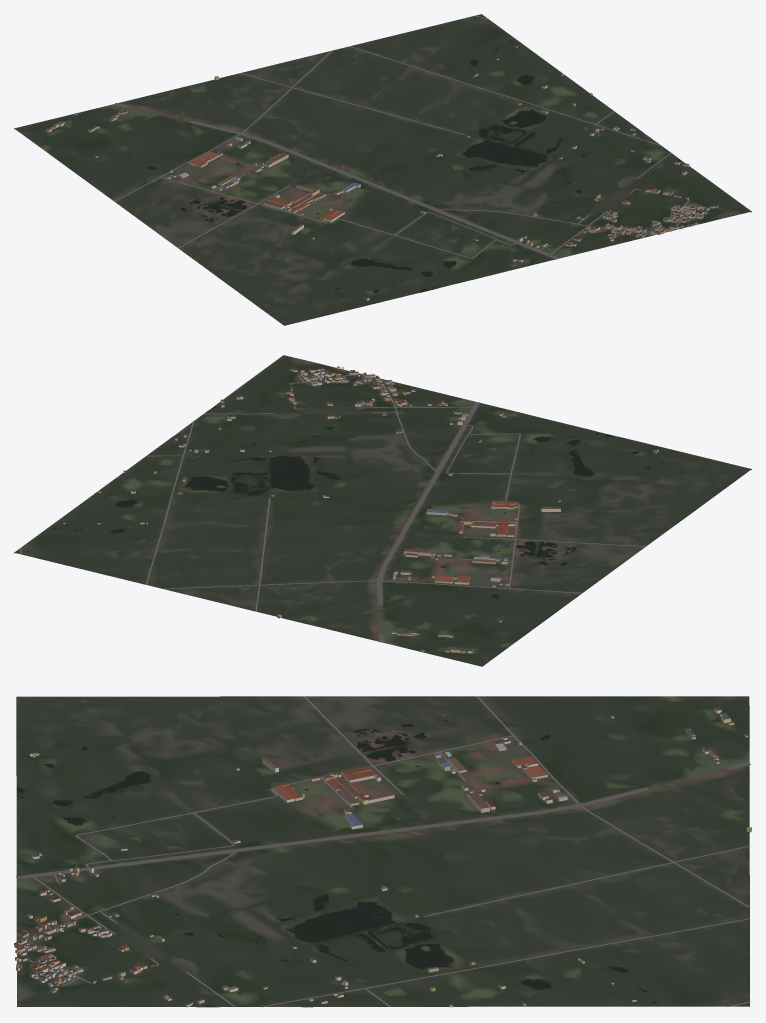
The picture shows the model from 3 angles, top to bottom: view 1: azimuth 30°, elevation 25°; view 2: azimuth 150°, elevation 25°; view 3: azimuth 270°, elevation 25°; orthographic projection. The views are drawn at different scales.
Visible parts, largest first — view 1: ground, buildings, roads, water; view 2: ground, buildings, water, roads; view 3: ground, buildings, water, roads.
Boxes of the visible parts, <box> form: ground: <box>14,14,751,325</box>; buildings: <box>45,45,718,300</box>; roads: <box>113,15,703,259</box>; water: <box>146,40,682,293</box>; ground: <box>14,355,751,666</box>; buildings: <box>63,366,658,653</box>; water: <box>54,405,651,598</box>; roads: <box>20,370,645,642</box>; ground: <box>16,696,749,1007</box>; buildings: <box>14,708,751,1007</box>; water: <box>17,716,656,1006</box>; roads: <box>16,696,750,1007</box>.
Size of the model in its own units: 1406 by 16.21 by 1411.
